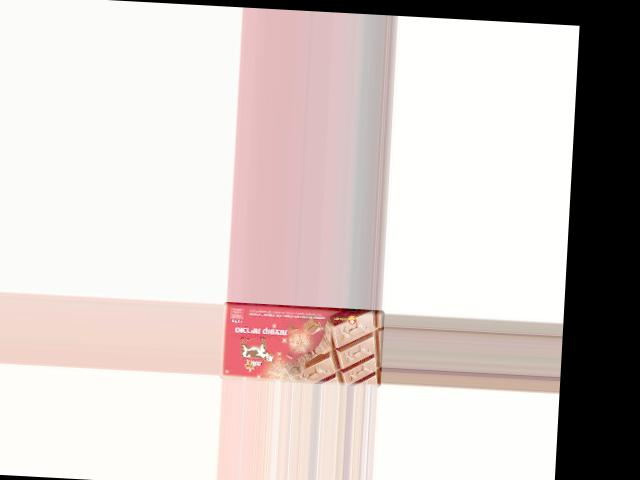chocolate: (219, 301, 383, 386)
